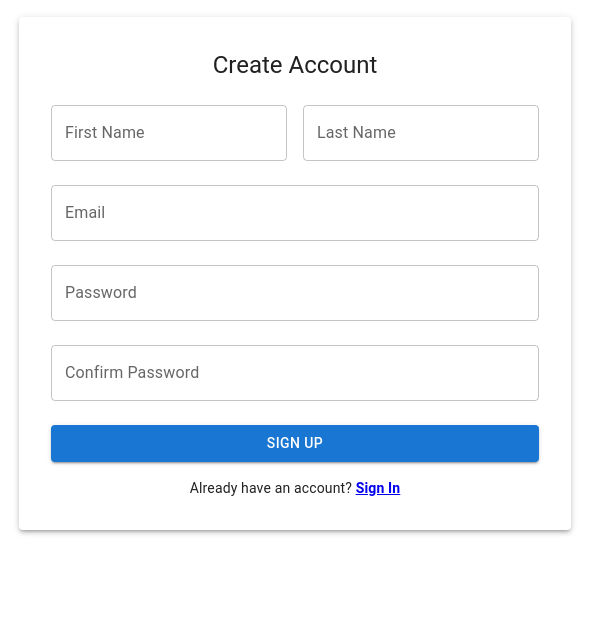
Test: RegisterPage › shows validation error when first name is empty
Click the button with test id "submit-button": click(295, 444) [51,425,539,462]
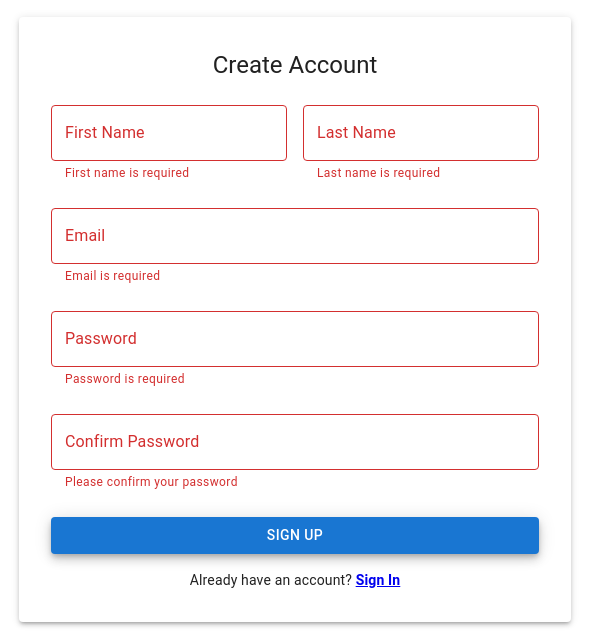
Expected: the text "First name is required" is shown, [65,166,189,180]
